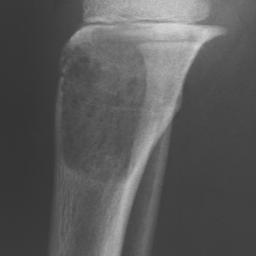cancer: (56, 46, 146, 177)
